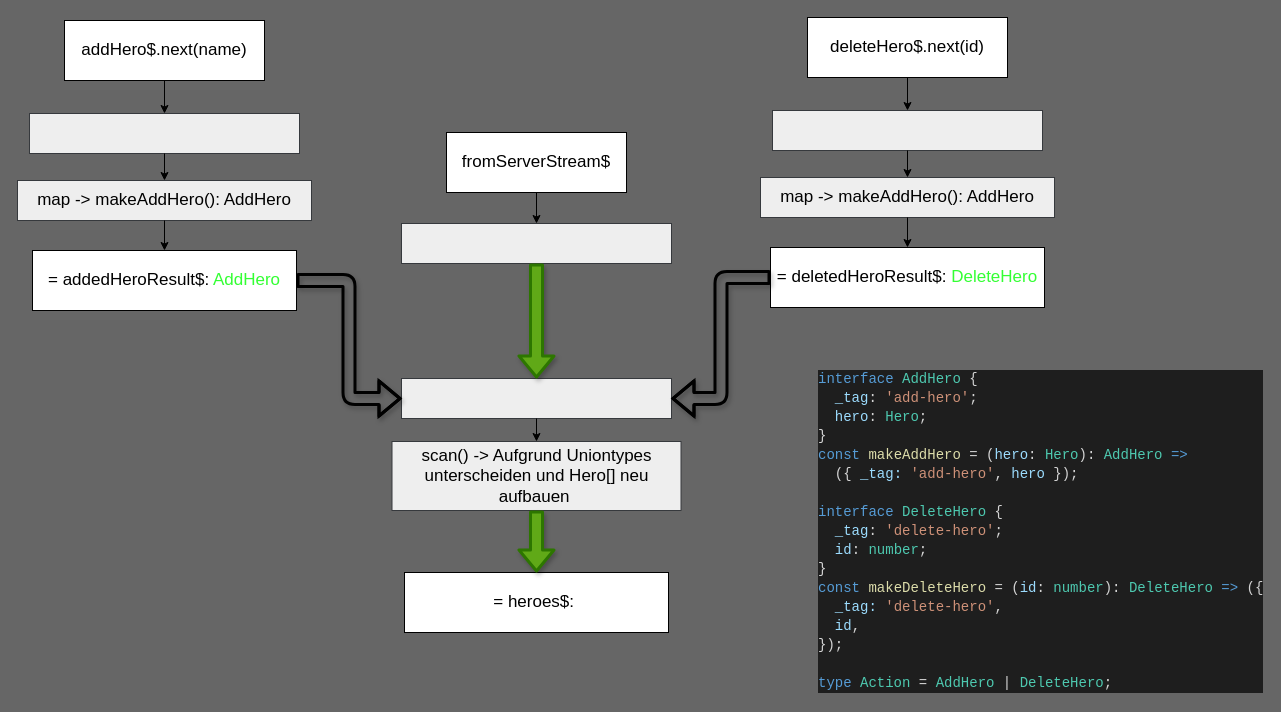
Image size: 1281x712. Some labels were removed from this diagram. Here are the shapes that lost their labels. From the top down, the centre of each, then its label:
At point 164,133: "concatMap -> service.addHero()".
At point 907,130: "concatMap -> service.deleteHero()".
At point 536,243: "switchMap".
At point 536,398: "merge".
